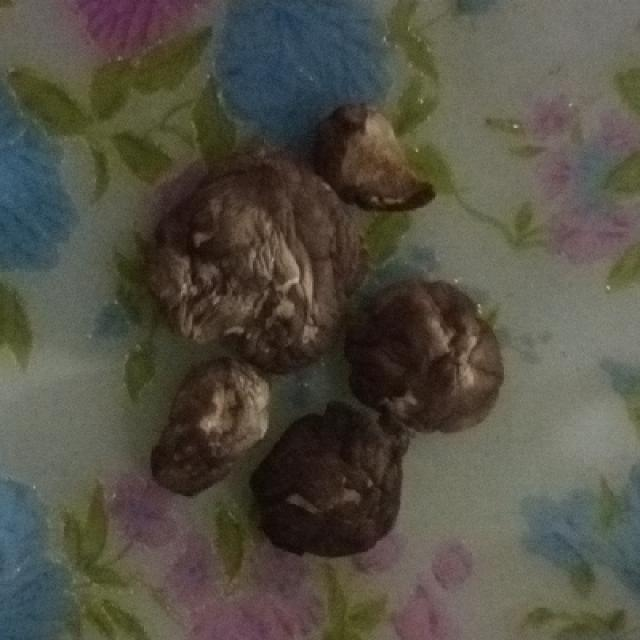Lentinus edodes: (148, 157, 372, 363), (255, 400, 411, 562), (351, 280, 505, 422), (144, 342, 271, 495), (320, 105, 440, 204)
